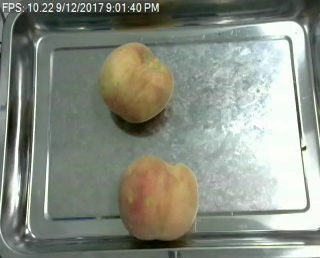Peach: (119, 156, 197, 242), (98, 41, 174, 123)
